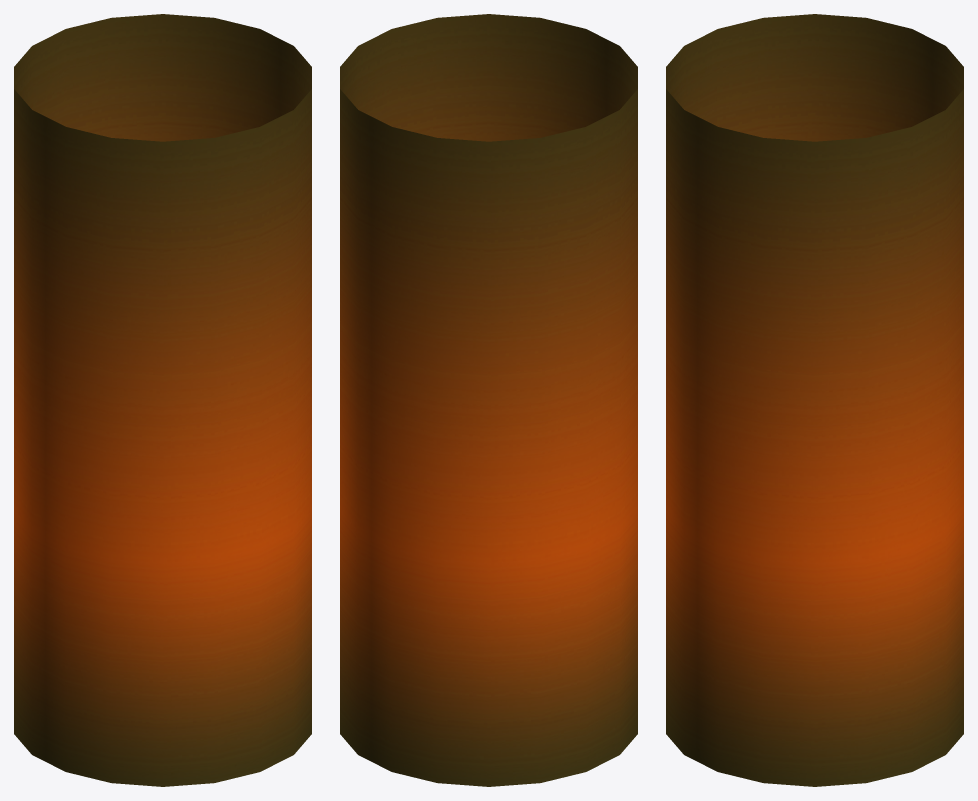
Rendered from ScaleCylinder.FBX.
The picture shows the model from 3 angles, left to right: view 1: azimuth 30°, elevation 25°; view 2: azimuth 150°, elevation 25°; view 3: azimuth 270°, elevation 25°; orthographic projection.
Visible parts, largest first — view 1: ScaleCylinder; view 2: ScaleCylinder; view 3: ScaleCylinder.
Boxes of the visible parts, left/top/right/bottom form: ScaleCylinder: left=14, top=14, right=311, bottom=786; ScaleCylinder: left=340, top=14, right=637, bottom=786; ScaleCylinder: left=666, top=14, right=963, bottom=786.
Size of the model in its own units: 608 by 1433 by 599.
